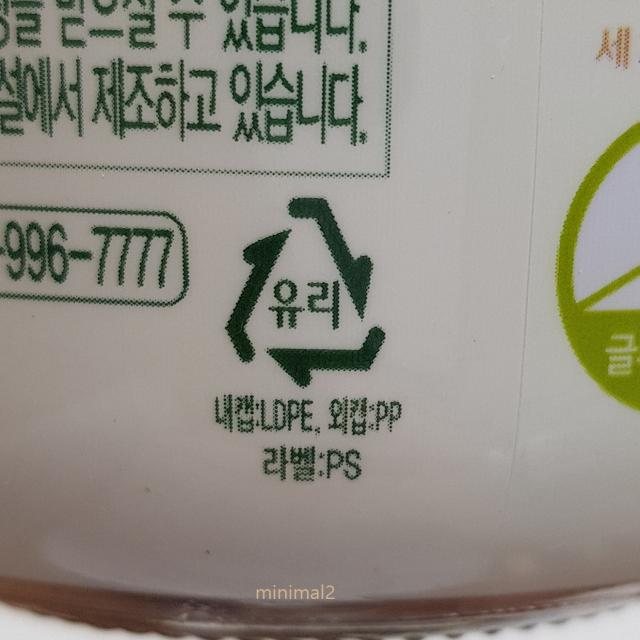Glass: (219, 190, 397, 393)
